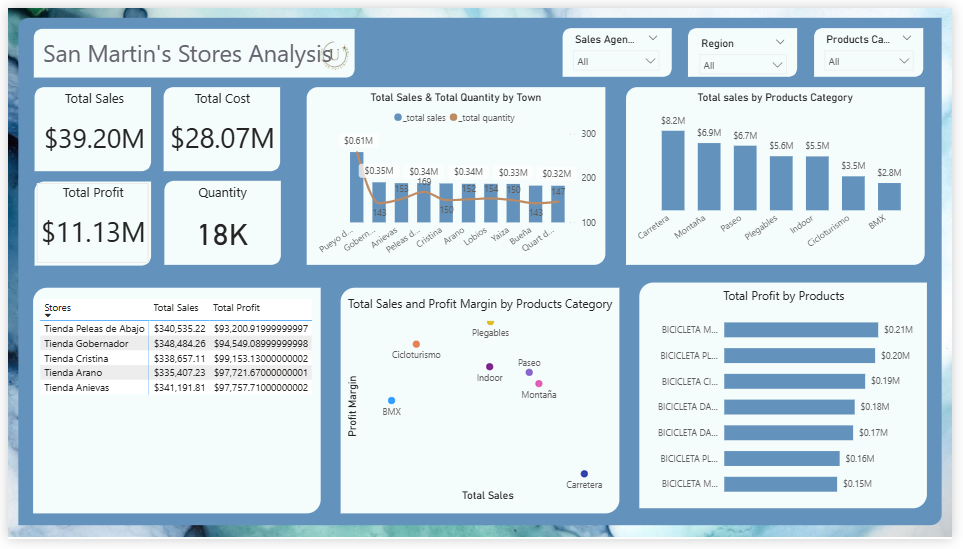

The dashboard page shown, as its layout file describes it:
{"tool":"powerbi","page":{"name":"Page 3","canvas":[1280,720],"ordinal":5},"visuals":[{"type":"textbox","box":[42.2,33.8,427.1,59.1],"z":0},{"type":"card","title":"Total Sales","fields":{"Values":["Sales Tiendas San Martin Janu#4._total sales"]},"box":[42.2,109.8,149.6,108.6],"z":1000},{"type":"card","title":"Total Cost","fields":{"Values":["Sales Tiendas San Martin Janu#4._total cost"]},"box":[213.5,111,154.4,107.4],"z":2000},{"type":"card","title":"Quantity","fields":{"Values":["Sum(Sales Tiendas San Martin Janu#4.Quanttity)"]},"box":[213.5,236.5,154.4,109.8],"z":3000},{"type":"card","title":"Total Profit","fields":{"Values":["Sales Tiendas San Martin Janu#4._total profit"]},"box":[38.6,236.5,153.2,109.8],"z":4000},{"type":"slicer","fields":{"Values":["Locations.Region"]},"box":[927.8,33.8,138.7,59.1],"z":5000},{"type":"slicer","fields":{"Values":["Sales Agents.Sales Agent Name"]},"box":[756.4,29,137.5,63.9],"z":6000},{"type":"slicer","fields":{"Values":["Products.Products Category"]},"box":[1096.7,29,141.2,63.9],"z":7000},{"type":"lineClusteredColumnComboChart","title":"Total Sales & Total Quantity by Town","fields":{"Category":["Locations.Town"],"Y":["Sales Tiendas San Martin Janu#4._total sales"],"Y2":["Sales Tiendas San Martin Janu#4._total quantity"]},"box":[411.4,112.2,390.9,234],"z":8000},{"type":"columnChart","title":"Total sales by Products Category","fields":{"Category":["Products.Products Category"],"Y":["Sales Tiendas San Martin Janu#4._total sales"]},"box":[844.8,112,392.7,233.7],"z":8001},{"type":"scatterChart","title":"Total Sales and Profit Margin by Products Category","fields":{"X":["Sales Tiendas San Martin Janu#4._total sales"],"Y":["Sales Tiendas San Martin Janu#4._profit margin"],"Series":["Products.Products Category"]},"box":[453.6,389.7,371.6,284.7],"z":8002},{"type":"pivotTable","fields":{"Rows":["Stores.Stores"],"Values":["Sales Tiendas San Martin Janu#4._total sales","Sales Tiendas San Martin Janu#4._total profit"]},"box":[38.6,389.7,381.2,284.7],"z":8003},{"type":"clusteredBarChart","title":"Total Profit by Products","fields":{"Category":["Products.Products"],"Y":["Sales Tiendas San Martin Janu#4._total profit"]},"box":[863.7,377.5,374.8,298.1],"z":8004}]}

Visuals, with their boxes in screenshot pixels (x1, y1, x2, y2), scaled from the page's 1280x720 canvas onto the 963x549 screenshot:
textbox: pyautogui.locateOnScreen(32, 26, 353, 71)
"Total Sales" card: pyautogui.locateOnScreen(32, 84, 144, 167)
"Total Cost" card: pyautogui.locateOnScreen(161, 85, 277, 167)
"Quantity" card: pyautogui.locateOnScreen(161, 180, 277, 264)
"Total Profit" card: pyautogui.locateOnScreen(29, 180, 144, 264)
slicer - Locations.Region: pyautogui.locateOnScreen(698, 26, 802, 71)
slicer - Sales Agents.Sales Agent Name: pyautogui.locateOnScreen(569, 22, 673, 71)
slicer - Products.Products Category: pyautogui.locateOnScreen(825, 22, 931, 71)
"Total Sales & Total Quantity by Town" lineClusteredColumnComboChart: pyautogui.locateOnScreen(310, 86, 604, 264)
"Total sales by Products Category" columnChart: pyautogui.locateOnScreen(636, 85, 931, 264)
"Total Sales and Profit Margin by Products Category" scatterChart: pyautogui.locateOnScreen(341, 297, 621, 514)
pivotTable - Stores.Stores x Sales Tiendas San Martin Janu#4._total sales: pyautogui.locateOnScreen(29, 297, 316, 514)
"Total Profit by Products" clusteredBarChart: pyautogui.locateOnScreen(650, 288, 932, 515)
